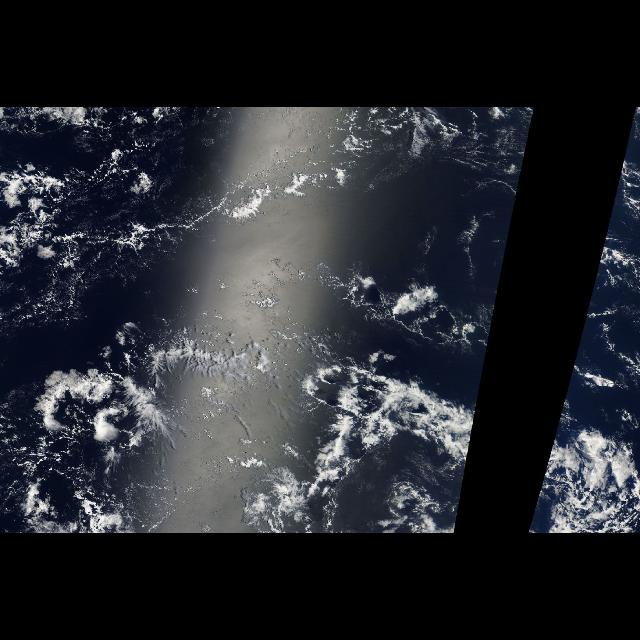Fish: (13, 152, 390, 276), (106, 328, 290, 448)
